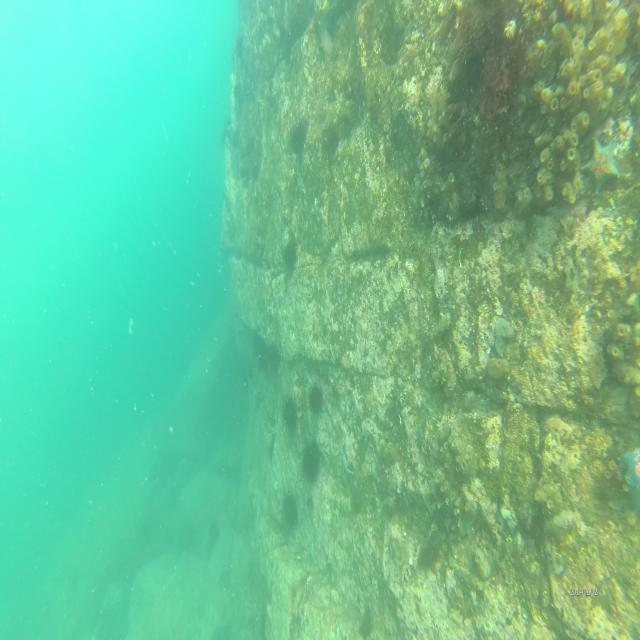echinus: (301, 440, 322, 483), (284, 489, 300, 528), (290, 119, 308, 152), (282, 396, 298, 433), (306, 383, 323, 415), (284, 239, 298, 265)
starfish: (580, 130, 622, 192), (619, 438, 640, 493)
